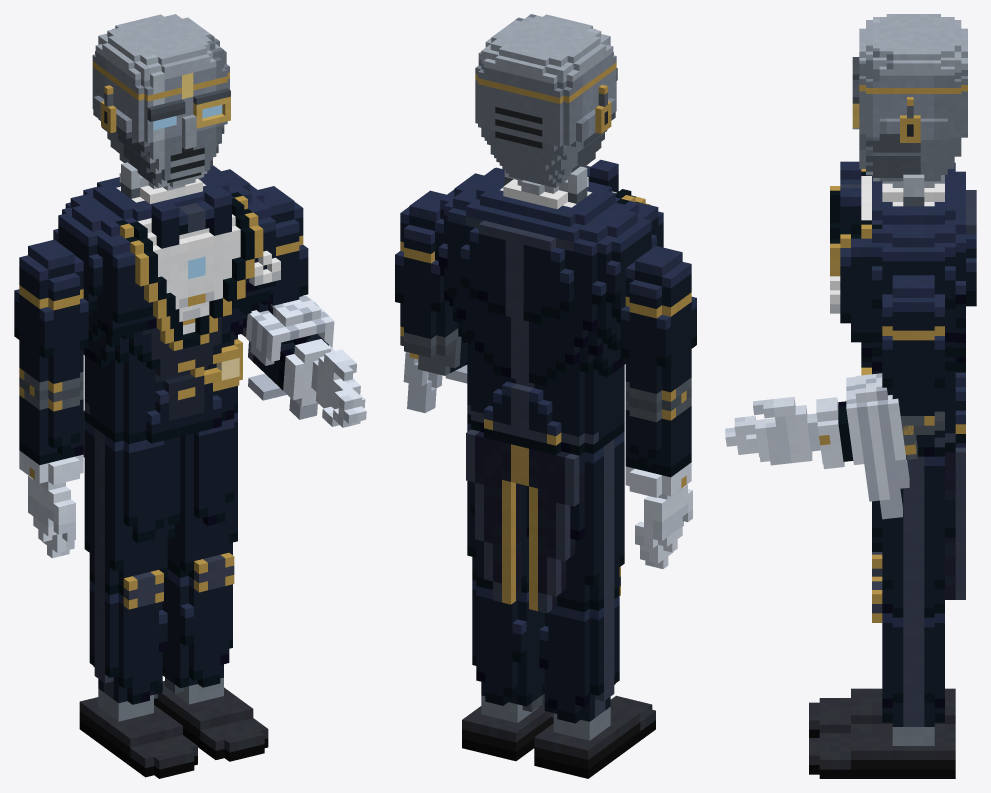
File: kairos.glb
3 views of the same model, side by side, from view 1: azimuth 30°, elevation 25°; view 2: azimuth 150°, elevation 25°; view 3: azimuth 270°, elevation 25° (orthographic). The views are drawn at different scales.
Visible parts, largest first — view 1: Kairos; view 2: Kairos; view 3: Kairos.
Boxes of the visible parts, x1,y1,x2,y2 form: Kairos: (14, 14, 366, 778); Kairos: (395, 14, 696, 778); Kairos: (725, 14, 976, 778).
Size of the model in its own units: 0.7822 by 1.9 by 0.6054.
Materials: 1 (1 with a texture image).
